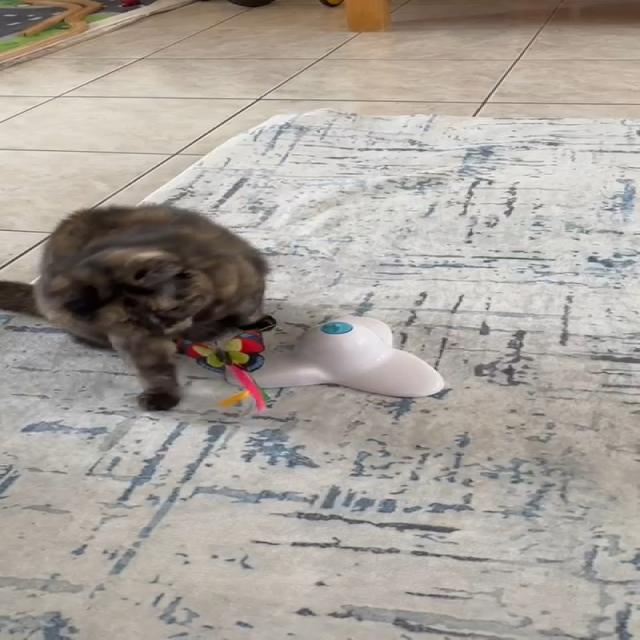authorized: (0, 201, 276, 411)
